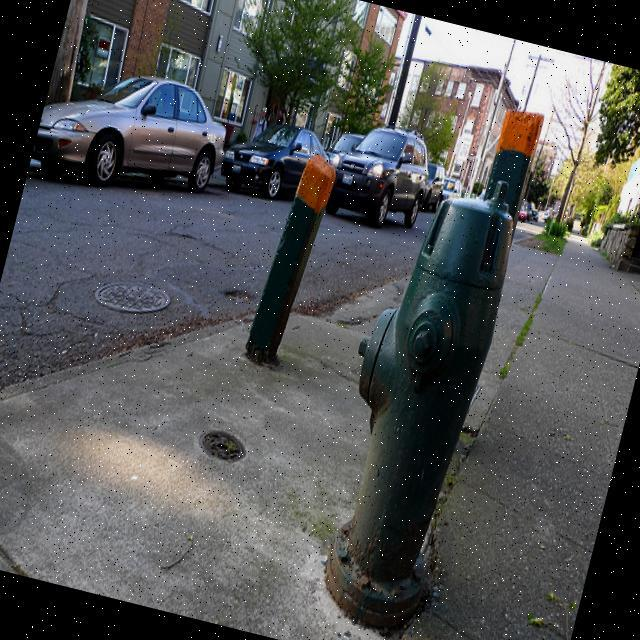fire_hydrant: (294, 158, 530, 629)
